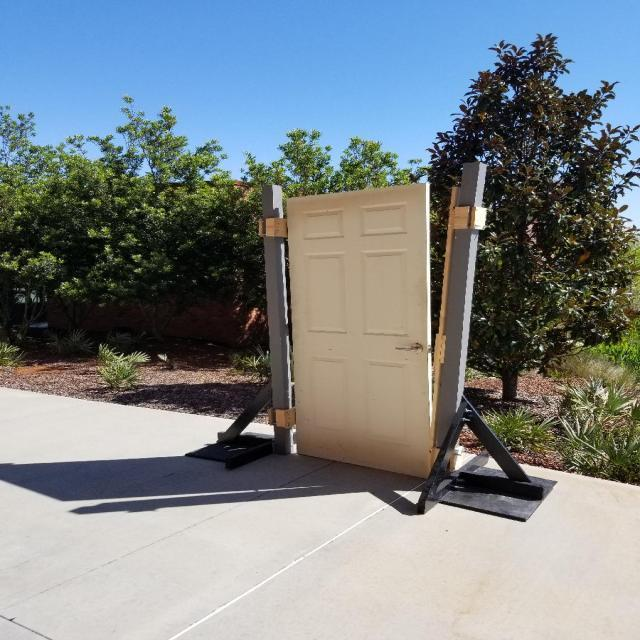door: (279, 179, 439, 482), (389, 342, 426, 356)
